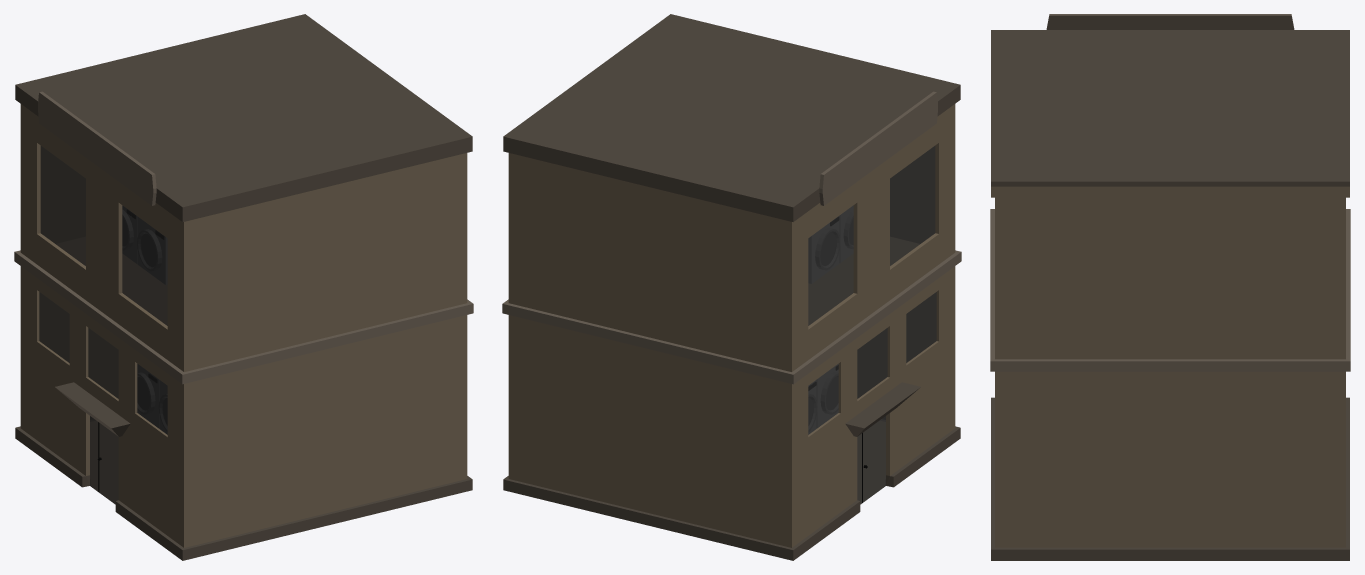
The model's file is Proto-Laundro.fbx.
The picture shows the model from 3 angles, left to right: view 1: azimuth 30°, elevation 25°; view 2: azimuth 150°, elevation 25°; view 3: azimuth 270°, elevation 25°; orthographic projection. The views are drawn at different scales.
Visible parts, largest first — view 1: LaundroMat; view 2: LaundroMat; view 3: LaundroMat.
Boxes of the visible parts, x1=… form: LaundroMat: x1=14, y1=14, x2=473, y2=560; LaundroMat: x1=502, y1=14, x2=961, y2=560; LaundroMat: x1=990, y1=14, x2=1350, y2=560.
Size of the model in its own units: 7.3 by 8.35 by 6.94.
